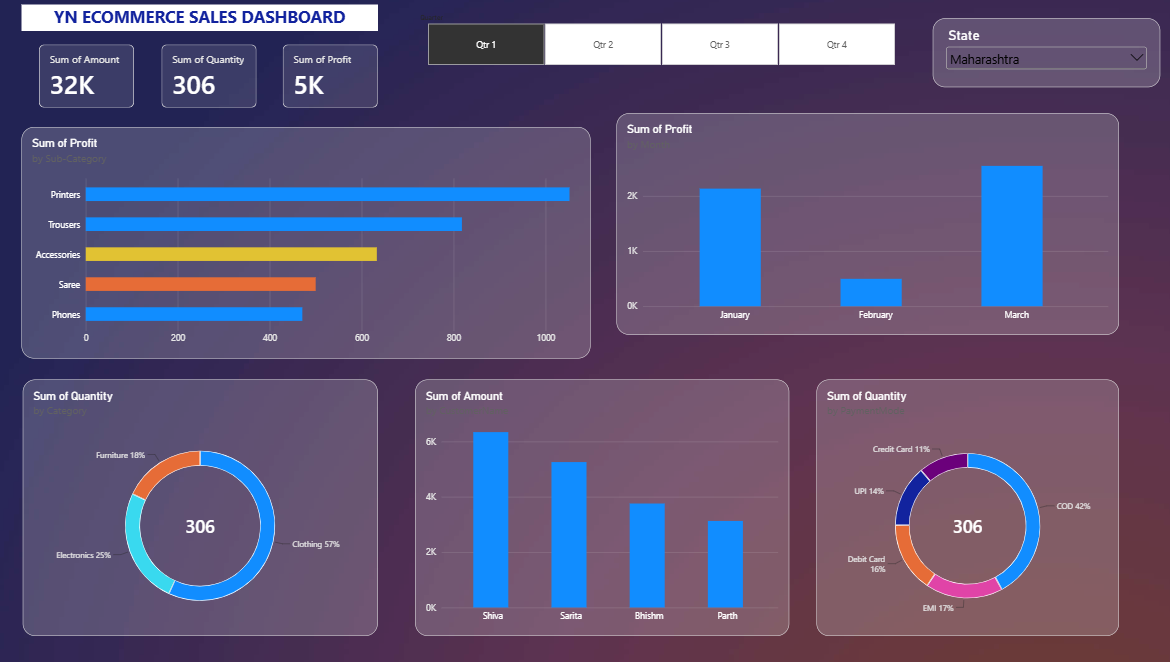

The dashboard page shown, as its layout file describes it:
{"tool":"powerbi","page":{"name":"Page 1","canvas":[1920,1080],"ordinal":0},"visuals":[{"type":"clusteredColumnChart","fields":{"Category":["Orders.Order Date.Variation.Date Hierarchy.Month"],"Y":["Sum(Details.Profit)"]},"box":[1028,186,804,354],"z":0},{"type":"clusteredBarChart","fields":{"Category":["Details.Sub-Category"],"Y":["Sum(Details.Profit)"]},"box":[76,208,910,370],"z":1000},{"type":"donutChart","fields":{"Category":["Details.Category"],"Y":["Sum(Details.Quantity)"]},"box":[78,612,568,410],"z":2000},{"type":"donutChart","fields":{"Category":["Details.PaymentMode"],"Y":["Sum(Details.Quantity)"]},"box":[1348,612,484,410],"z":3000},{"type":"cardVisual","fields":{"Data":["Sum(Details.Quantity)"]},"box":[300,76,152.5,101.2],"z":5000},{"type":"cardVisual","fields":{"Data":["Sum(Details.Profit)"]},"box":[494,76,152.5,101.2],"z":6000},{"type":"columnChart","fields":{"Category":["Orders.CustomerName"],"Y":["Sum(Details.Amount)"]},"box":[706,612,598,410],"z":7000},{"type":"slicer","fields":{"Values":["Orders.Order Date.Variation.Date Hierarchy.Quarter"]},"box":[706,26,786,84],"z":8000},{"type":"slicer","fields":{"Values":["Orders.State"]},"box":[1534,34,364,110],"z":9000},{"type":"cardVisual","fields":{"Data":["Sum(Details.Amount)"]},"box":[104,76,152.5,101.2],"z":10000},{"type":"textbox","box":[76,12,570,42],"z":10001}]}

Visuals, with their boxes in screenshot pixels (x1, y1, x2, y2), scaled from the page's 1920x1080 canvas onto the 1170x662 screenshot:
clusteredColumnChart - Orders.Order Date.Variation.Date Hierarchy.Month x Sum(Details.Profit): pyautogui.locateOnScreen(626, 114, 1116, 331)
clusteredBarChart - Details.Sub-Category x Sum(Details.Profit): pyautogui.locateOnScreen(46, 127, 601, 354)
donutChart - Details.Category x Sum(Details.Quantity): pyautogui.locateOnScreen(48, 375, 394, 626)
donutChart - Details.PaymentMode x Sum(Details.Quantity): pyautogui.locateOnScreen(821, 375, 1116, 626)
cardVisual - Sum(Details.Quantity): pyautogui.locateOnScreen(183, 47, 276, 109)
cardVisual - Sum(Details.Profit): pyautogui.locateOnScreen(301, 47, 394, 109)
columnChart - Orders.CustomerName x Sum(Details.Amount): pyautogui.locateOnScreen(430, 375, 795, 626)
slicer - Orders.Order Date.Variation.Date Hierarchy.Quarter: pyautogui.locateOnScreen(430, 16, 909, 67)
slicer - Orders.State: pyautogui.locateOnScreen(935, 21, 1157, 88)
cardVisual - Sum(Details.Amount): pyautogui.locateOnScreen(63, 47, 156, 109)
textbox: pyautogui.locateOnScreen(46, 7, 394, 33)
